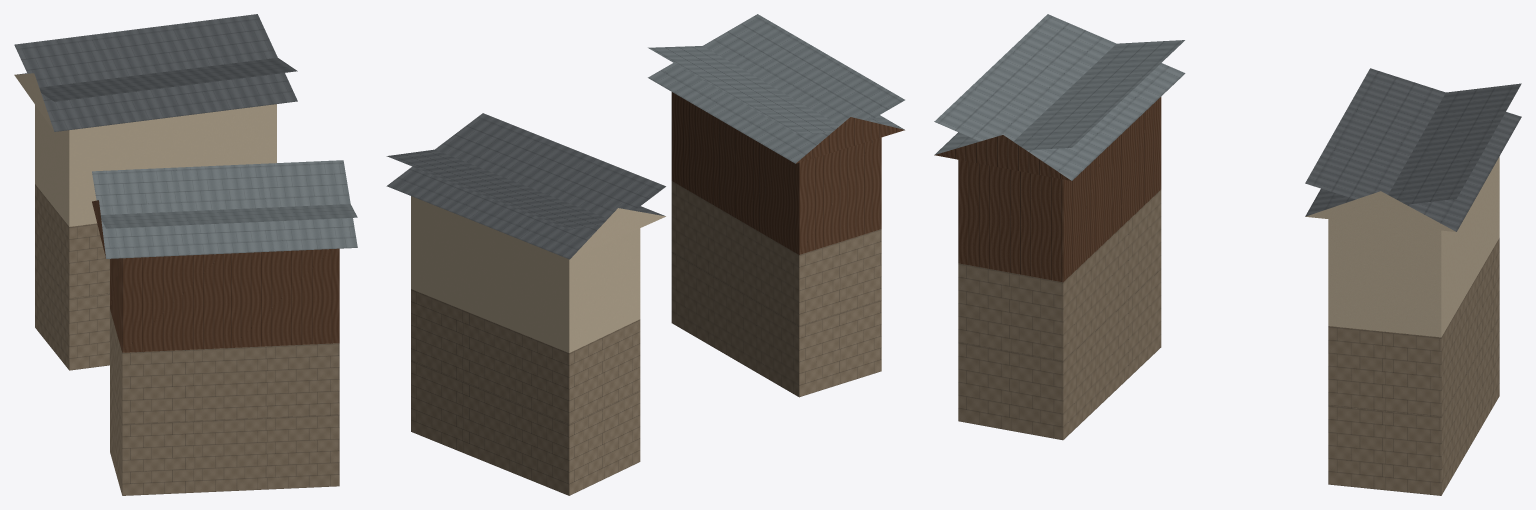
File: bld_c10_9_493.gltf
The picture shows the model from 3 angles, left to right: view 1: azimuth 30°, elevation 25°; view 2: azimuth 150°, elevation 25°; view 3: azimuth 270°, elevation 25°; orthographic projection. The views are drawn at different scales.
Visible parts, largest first — view 1: bld_c10_9_493; view 2: bld_c10_9_493; view 3: bld_c10_9_493.
Boxes of the visible parts, left/top/right/bottom form: bld_c10_9_493: left=14, top=14, right=357, bottom=495; bld_c10_9_493: left=386, top=14, right=904, bottom=495; bld_c10_9_493: left=934, top=14, right=1521, bottom=495.
Bounding box in the file's own units: 11.67 × 9.3 × 15.98.
Materials: 7 (7 with a texture image).
